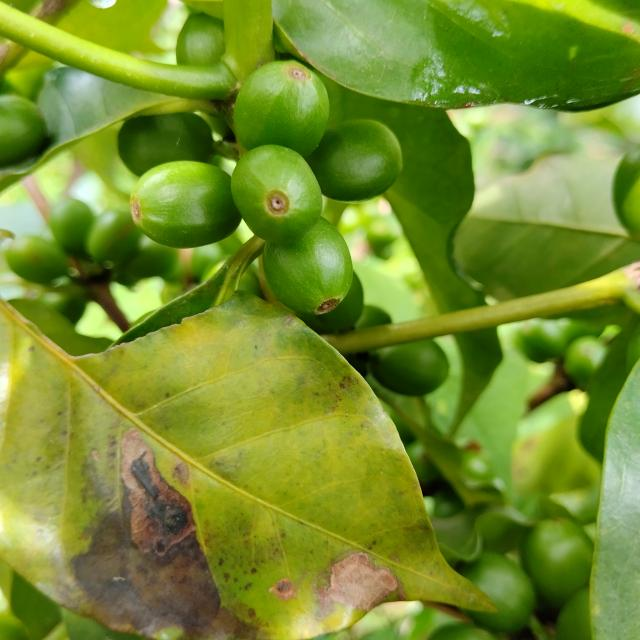green: (130, 160, 241, 248), (234, 59, 330, 156), (231, 144, 322, 244), (263, 217, 353, 315), (306, 119, 403, 202), (522, 519, 595, 610), (461, 553, 536, 635), (117, 112, 213, 175), (370, 340, 450, 396), (298, 272, 364, 334), (0, 94, 45, 166), (176, 12, 225, 64), (614, 146, 640, 239), (517, 319, 568, 363), (565, 336, 608, 388), (354, 305, 392, 330)
